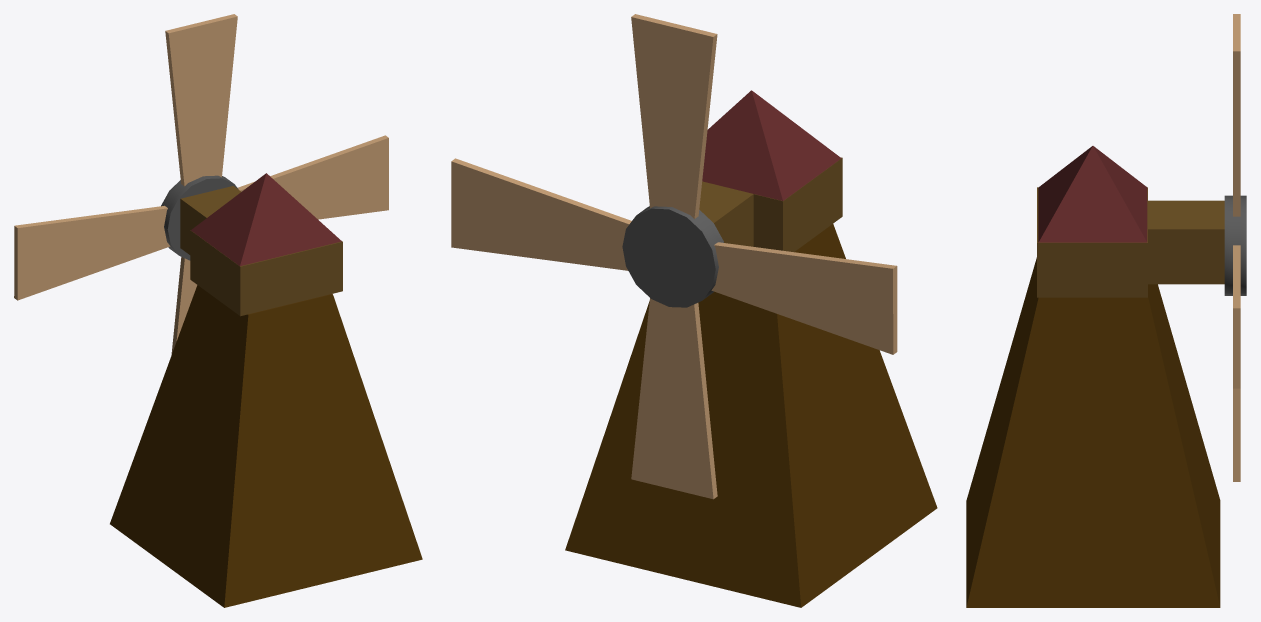
Rendered from mill.fbx.
3 renders of one model, left to right at view 1: azimuth 30°, elevation 25°; view 2: azimuth 150°, elevation 25°; view 3: azimuth 270°, elevation 25°, orthographic. The views are drawn at different scales.
Visible parts, largest first — view 1: Cube, Cube_1, Cube_3, Cube_2, Pyramid, Cube_5, Cylinder, Cube_4; view 2: Cube, Cube_3, Cube_2, Cube_4, Cube_5, Pyramid, Cylinder, Cube_1; view 3: Cube, Cube_1, Pyramid, Cylinder, Cube_2, Cube_5, Cube_4.
Part boxes in pixels (x1,y1,x2,y2): Cube: (110,285,422,607); Cube_1: (180,186,342,316); Cube_3: (14,205,170,300); Cube_2: (165,14,237,186); Pyramid: (191,173,341,266); Cube_5: (237,135,388,219); Cylinder: (161,175,238,260); Cube_4: (171,257,197,354); Cube: (565,224,937,607); Cube_3: (711,242,897,354); Cube_2: (631,14,717,218); Cube_4: (631,298,717,499); Cube_5: (451,158,631,270); Pyramid: (702,90,841,200); Cylinder: (622,206,723,307); Cube_1: (699,157,842,251); Cube: (966,257,1220,607); Cube_1: (1037,187,1224,297); Pyramid: (1038,146,1147,242); Cylinder: (1224,195,1246,295); Cube_2: (1233,14,1240,216); Cube_5: (1233,245,1240,388); Cube_4: (1233,388,1240,481).
Size of the model in its own units: 374 by 453 by 221.
